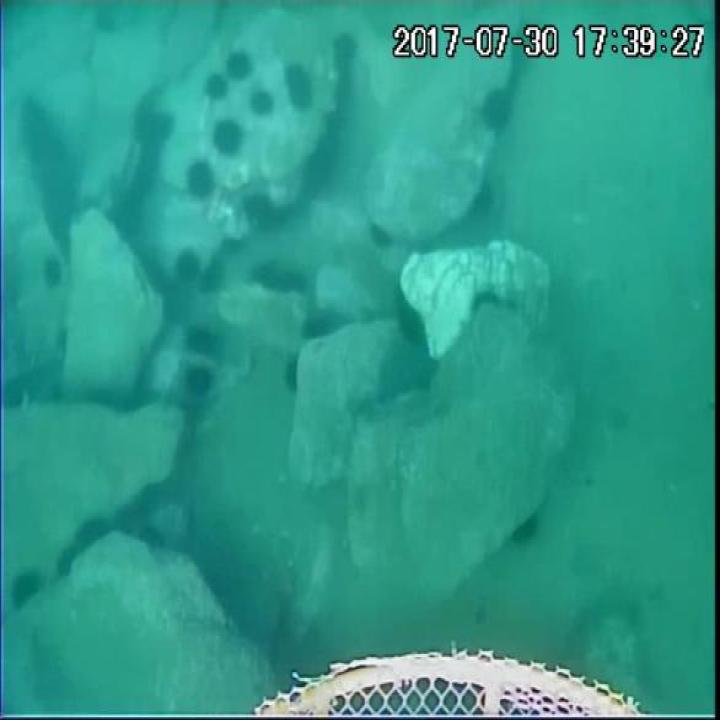echinus: (40, 177, 78, 240), (28, 129, 72, 181), (129, 108, 179, 153), (479, 84, 517, 138), (180, 156, 219, 207), (280, 62, 316, 115), (16, 93, 49, 150), (107, 198, 146, 246), (7, 567, 43, 618), (397, 305, 431, 357), (298, 309, 346, 345), (206, 120, 246, 162), (178, 318, 221, 357), (171, 248, 206, 290), (180, 361, 218, 399), (219, 46, 254, 86), (328, 33, 364, 71), (243, 86, 278, 124), (109, 501, 142, 540), (197, 255, 226, 299), (244, 261, 279, 297), (272, 267, 310, 299), (365, 218, 398, 254), (278, 354, 304, 399), (200, 70, 231, 106), (54, 546, 86, 579), (76, 518, 114, 545), (136, 522, 170, 552), (43, 254, 64, 288)
